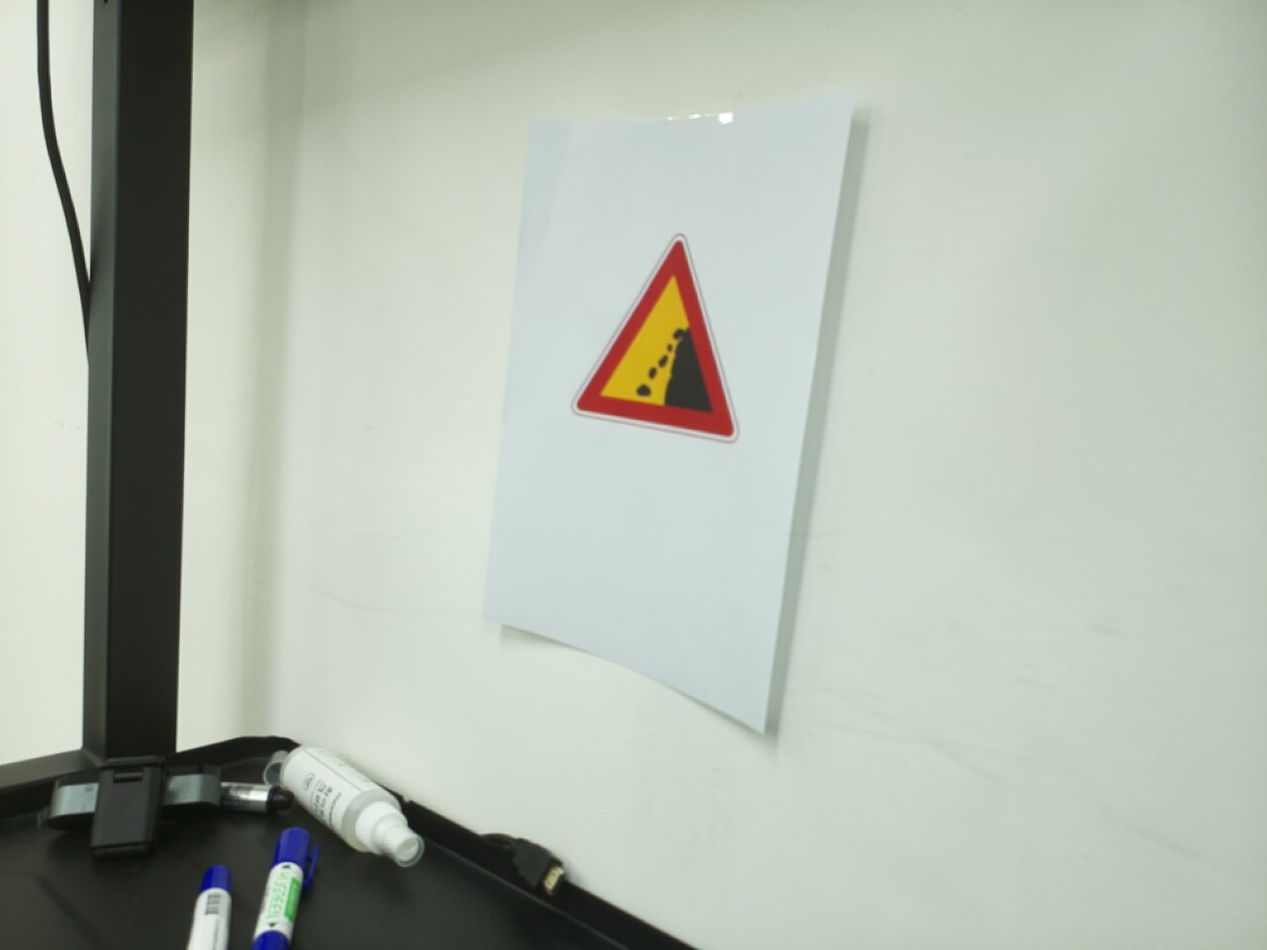falling_rocks: (570, 233, 740, 444)
